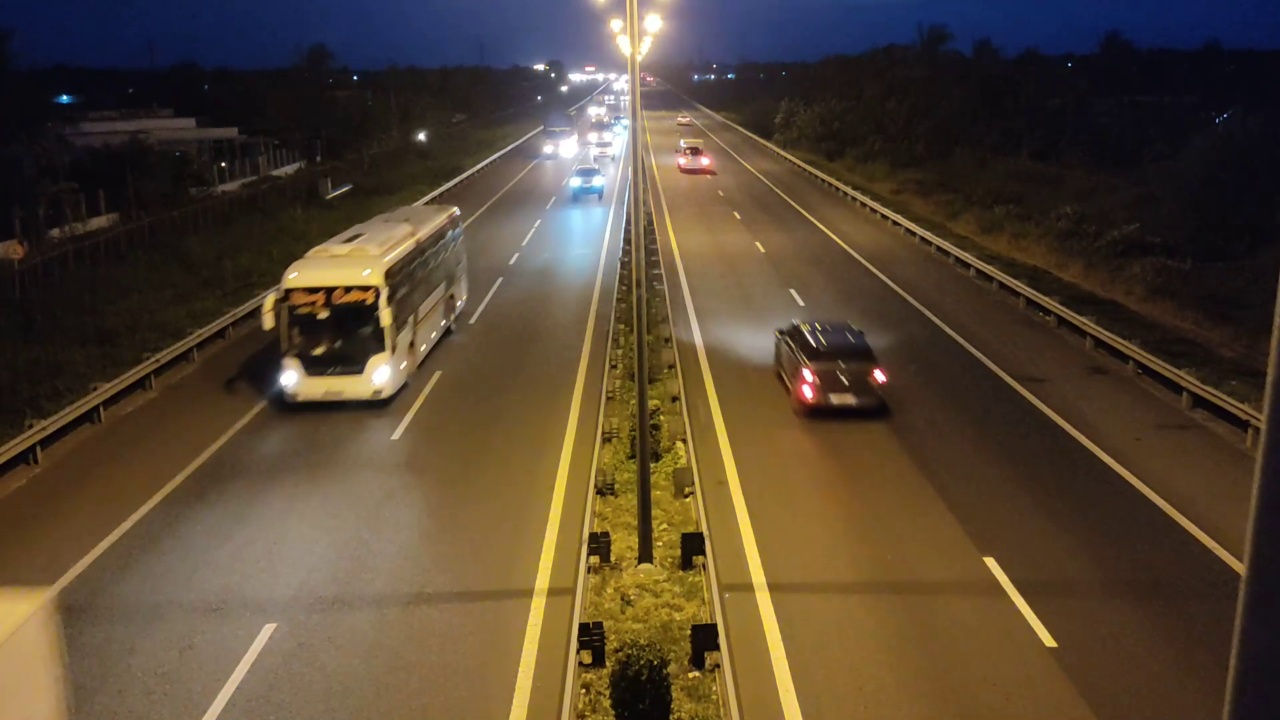bus: (272, 203, 470, 406)
car: (772, 318, 890, 419), (565, 166, 605, 201), (676, 143, 716, 175)
